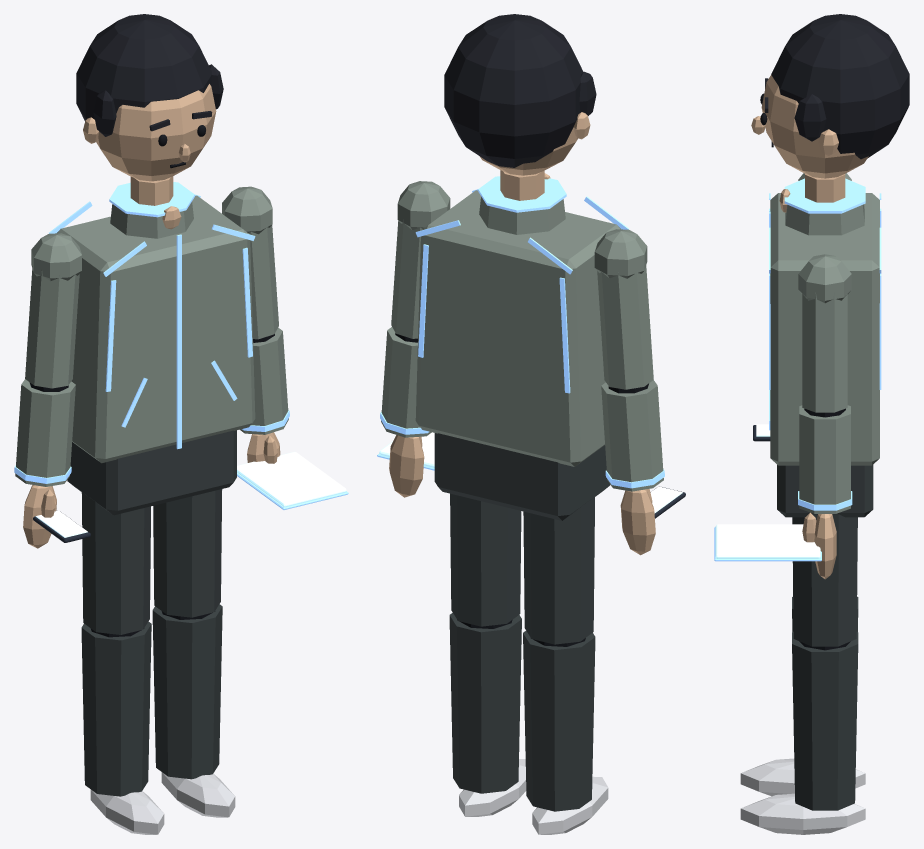
File: nagi.glb
The picture shows the model from 3 angles, left to right: view 1: azimuth 30°, elevation 25°; view 2: azimuth 150°, elevation 25°; view 3: azimuth 270°, elevation 25°; orthographic projection. The views are drawn at different scales.
Visible parts, largest first — view 1: torso, head, lowerLeg.R, lowerLeg.L, hips, upperLeg.R, upperLeg.L, upperArm.R, lowerArm.R, upperArm.L, tablet, lowerArm.L (+5 smaller); view 2: torso, head, lowerLeg.L, lowerLeg.R, hips, upperLeg.R, upperLeg.L, upperArm.R, lowerArm.R, upperArm.L, lowerArm.L, hand.R (+5 smaller); view 3: torso, head, lowerLeg.L, upperArm.L, upperLeg.L, lowerArm.L, tablet, foot.L, hips, foot.R, hand.L.
Part boxes in pixels (x1,y1,x2,y2): torso: [49, 182, 255, 463]; head: [76, 14, 223, 205]; lowerLeg.R: [81, 621, 151, 796]; lowerLeg.L: [152, 604, 222, 779]; hips: [67, 430, 236, 515]; upperLeg.R: [81, 492, 150, 634]; upperLeg.L: [153, 489, 222, 617]; upperArm.R: [25, 233, 81, 388]; lowerArm.R: [14, 379, 75, 486]; upperArm.L: [222, 186, 278, 339]; tablet: [237, 451, 348, 509]; lowerArm.L: [240, 327, 289, 434]; torso: [415, 173, 628, 466]; head: [444, 14, 596, 200]; lowerLeg.L: [449, 612, 521, 793]; lowerLeg.R: [523, 631, 595, 811]; hips: [434, 433, 610, 520]; upperLeg.R: [523, 497, 594, 644]; upperLeg.L: [450, 493, 521, 626]; upperArm.R: [594, 229, 653, 389]; lowerArm.R: [601, 380, 664, 491]; upperArm.L: [391, 181, 450, 338]; lowerArm.L: [380, 327, 431, 437]; hand.R: [620, 489, 655, 555]; torso: [769, 178, 881, 465]; head: [751, 14, 909, 202]; lowerLeg.L: [792, 631, 858, 810]; upperArm.L: [798, 254, 851, 412]; upperLeg.L: [792, 514, 857, 646]; lowerArm.L: [798, 405, 852, 513]; tablet: [714, 524, 821, 561]; foot.L: [740, 793, 865, 834]; hips: [777, 465, 873, 517]; foot.R: [740, 758, 865, 796]; hand.L: [802, 512, 836, 579].
Bounding box in the file's own units: 0.7355 × 2 × 0.4459.
